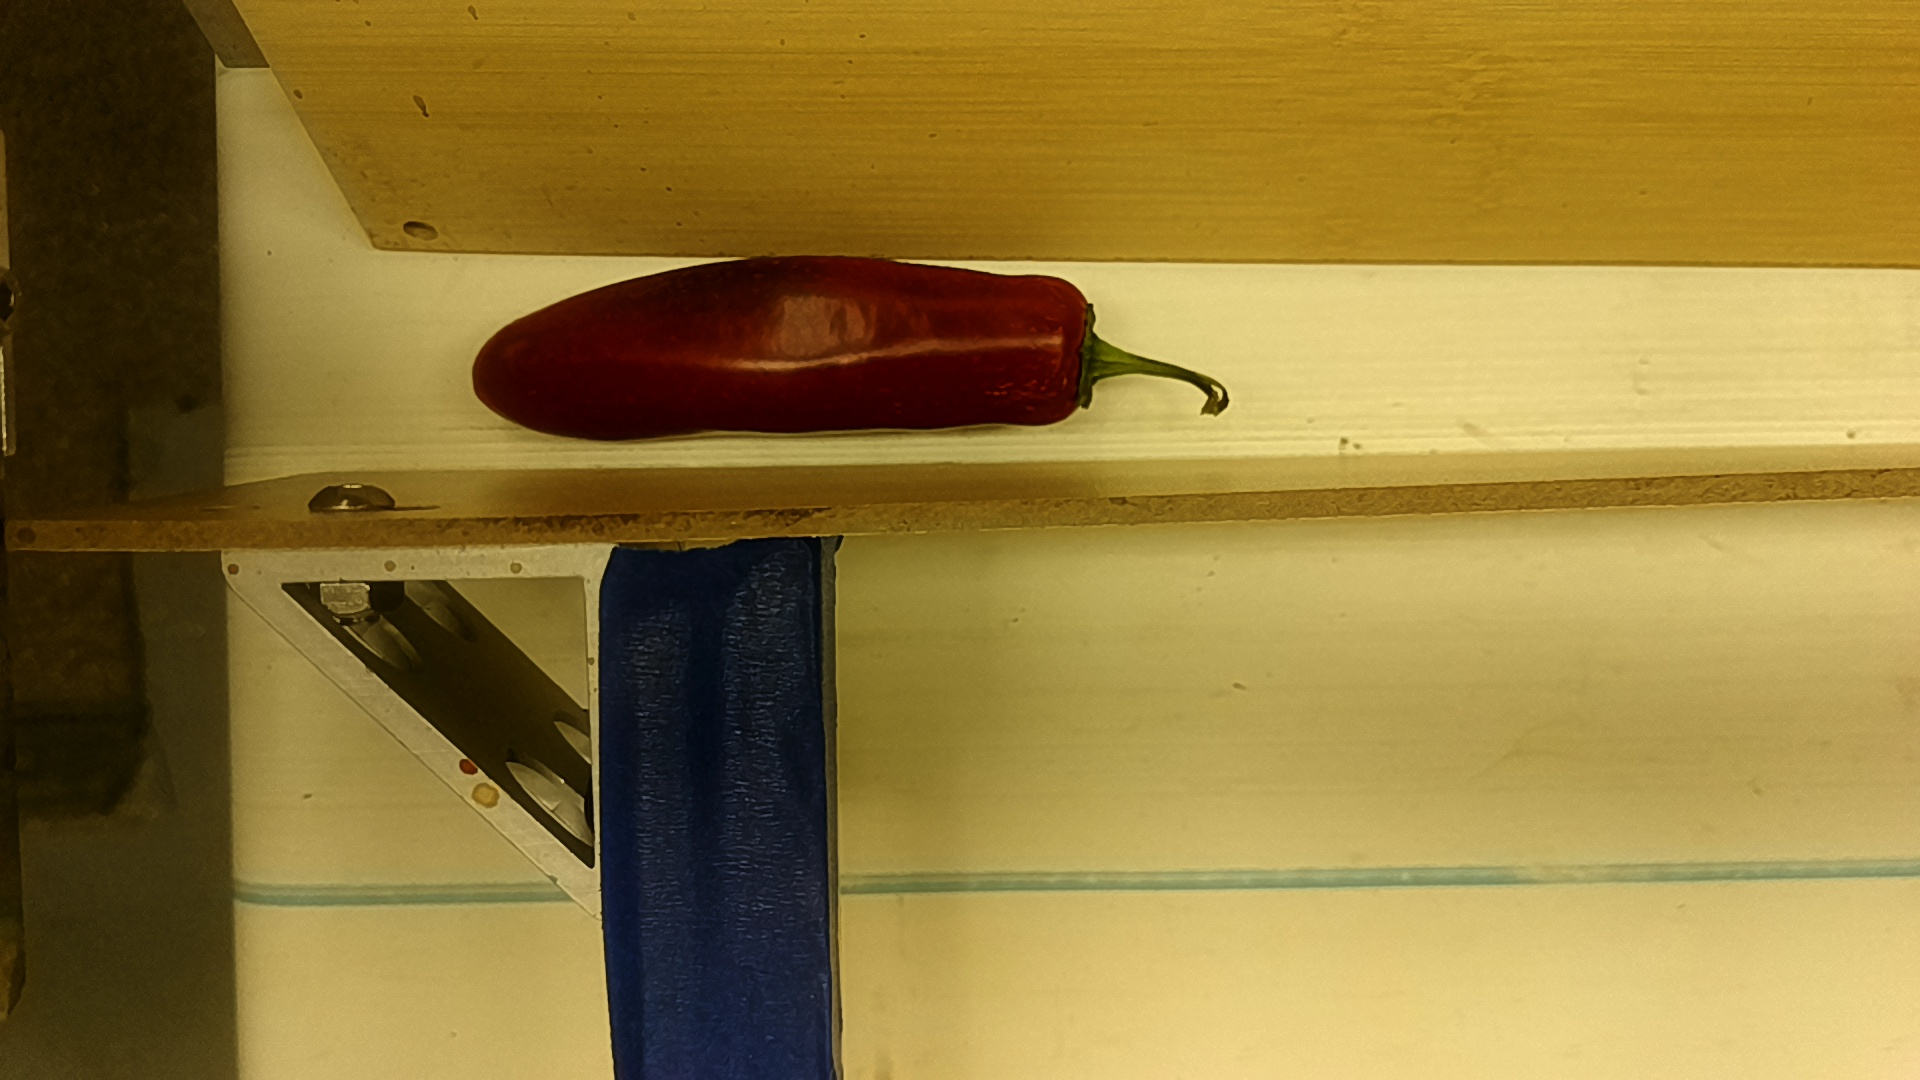Cut Point: (1033, 268, 1120, 429)
